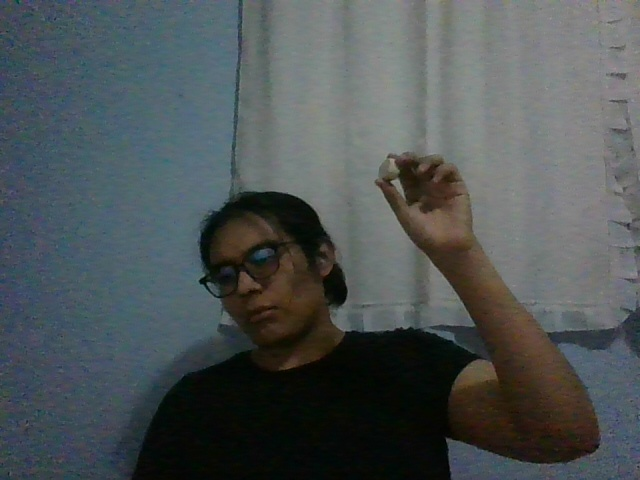goma: (379, 158, 400, 181)
